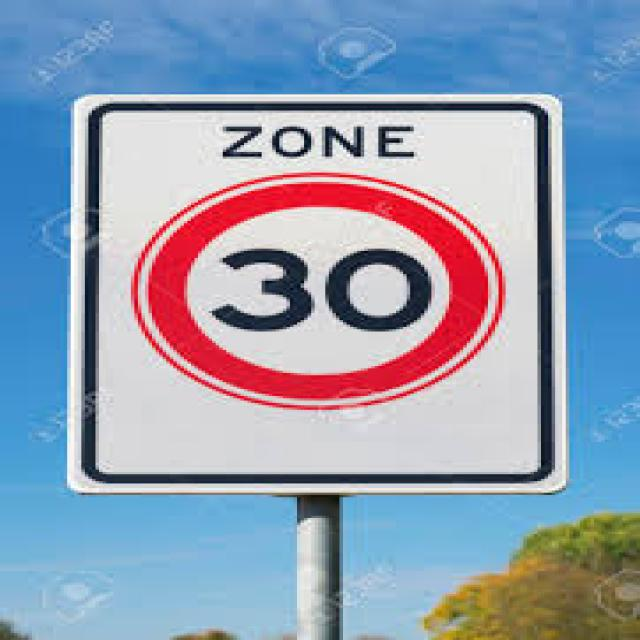Speed limit 30: (128, 169, 507, 413)
